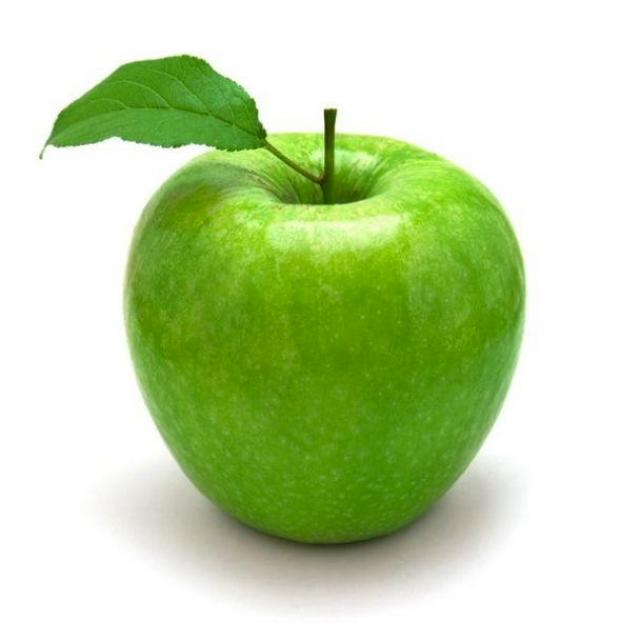HEALTHY: (110, 120, 544, 564)
